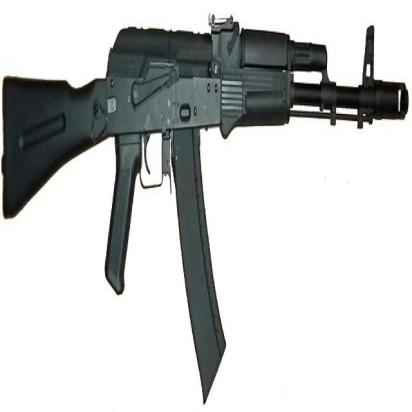Gun: (4, 2, 407, 405)
